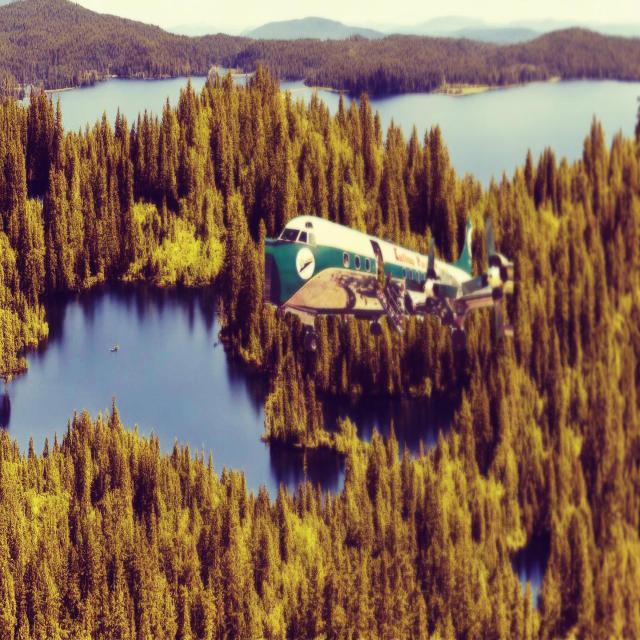airplane: (264, 212, 514, 354)
